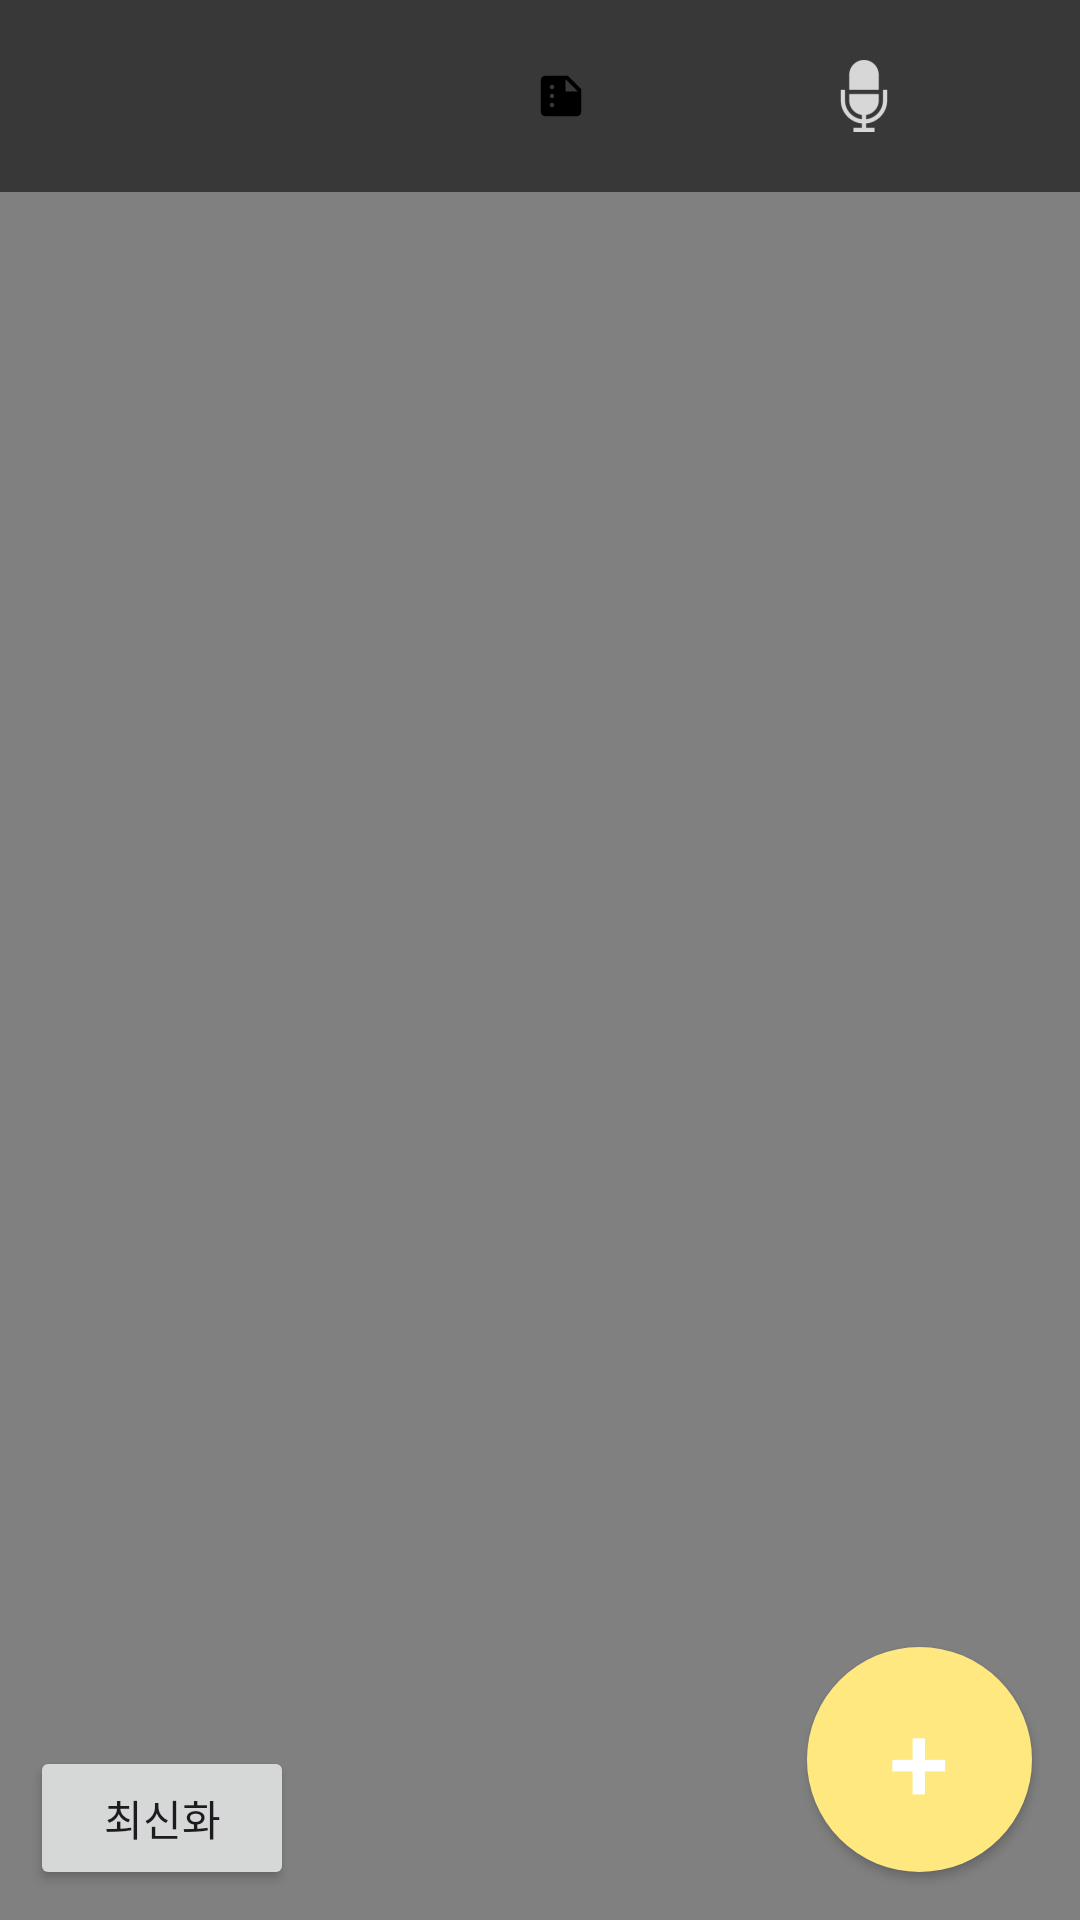

Icon click points for this 1080×1920 phone screenshot, format (x,y):
summarize: (561,96)
음성 녹음 파일 보내기: (864,96)
